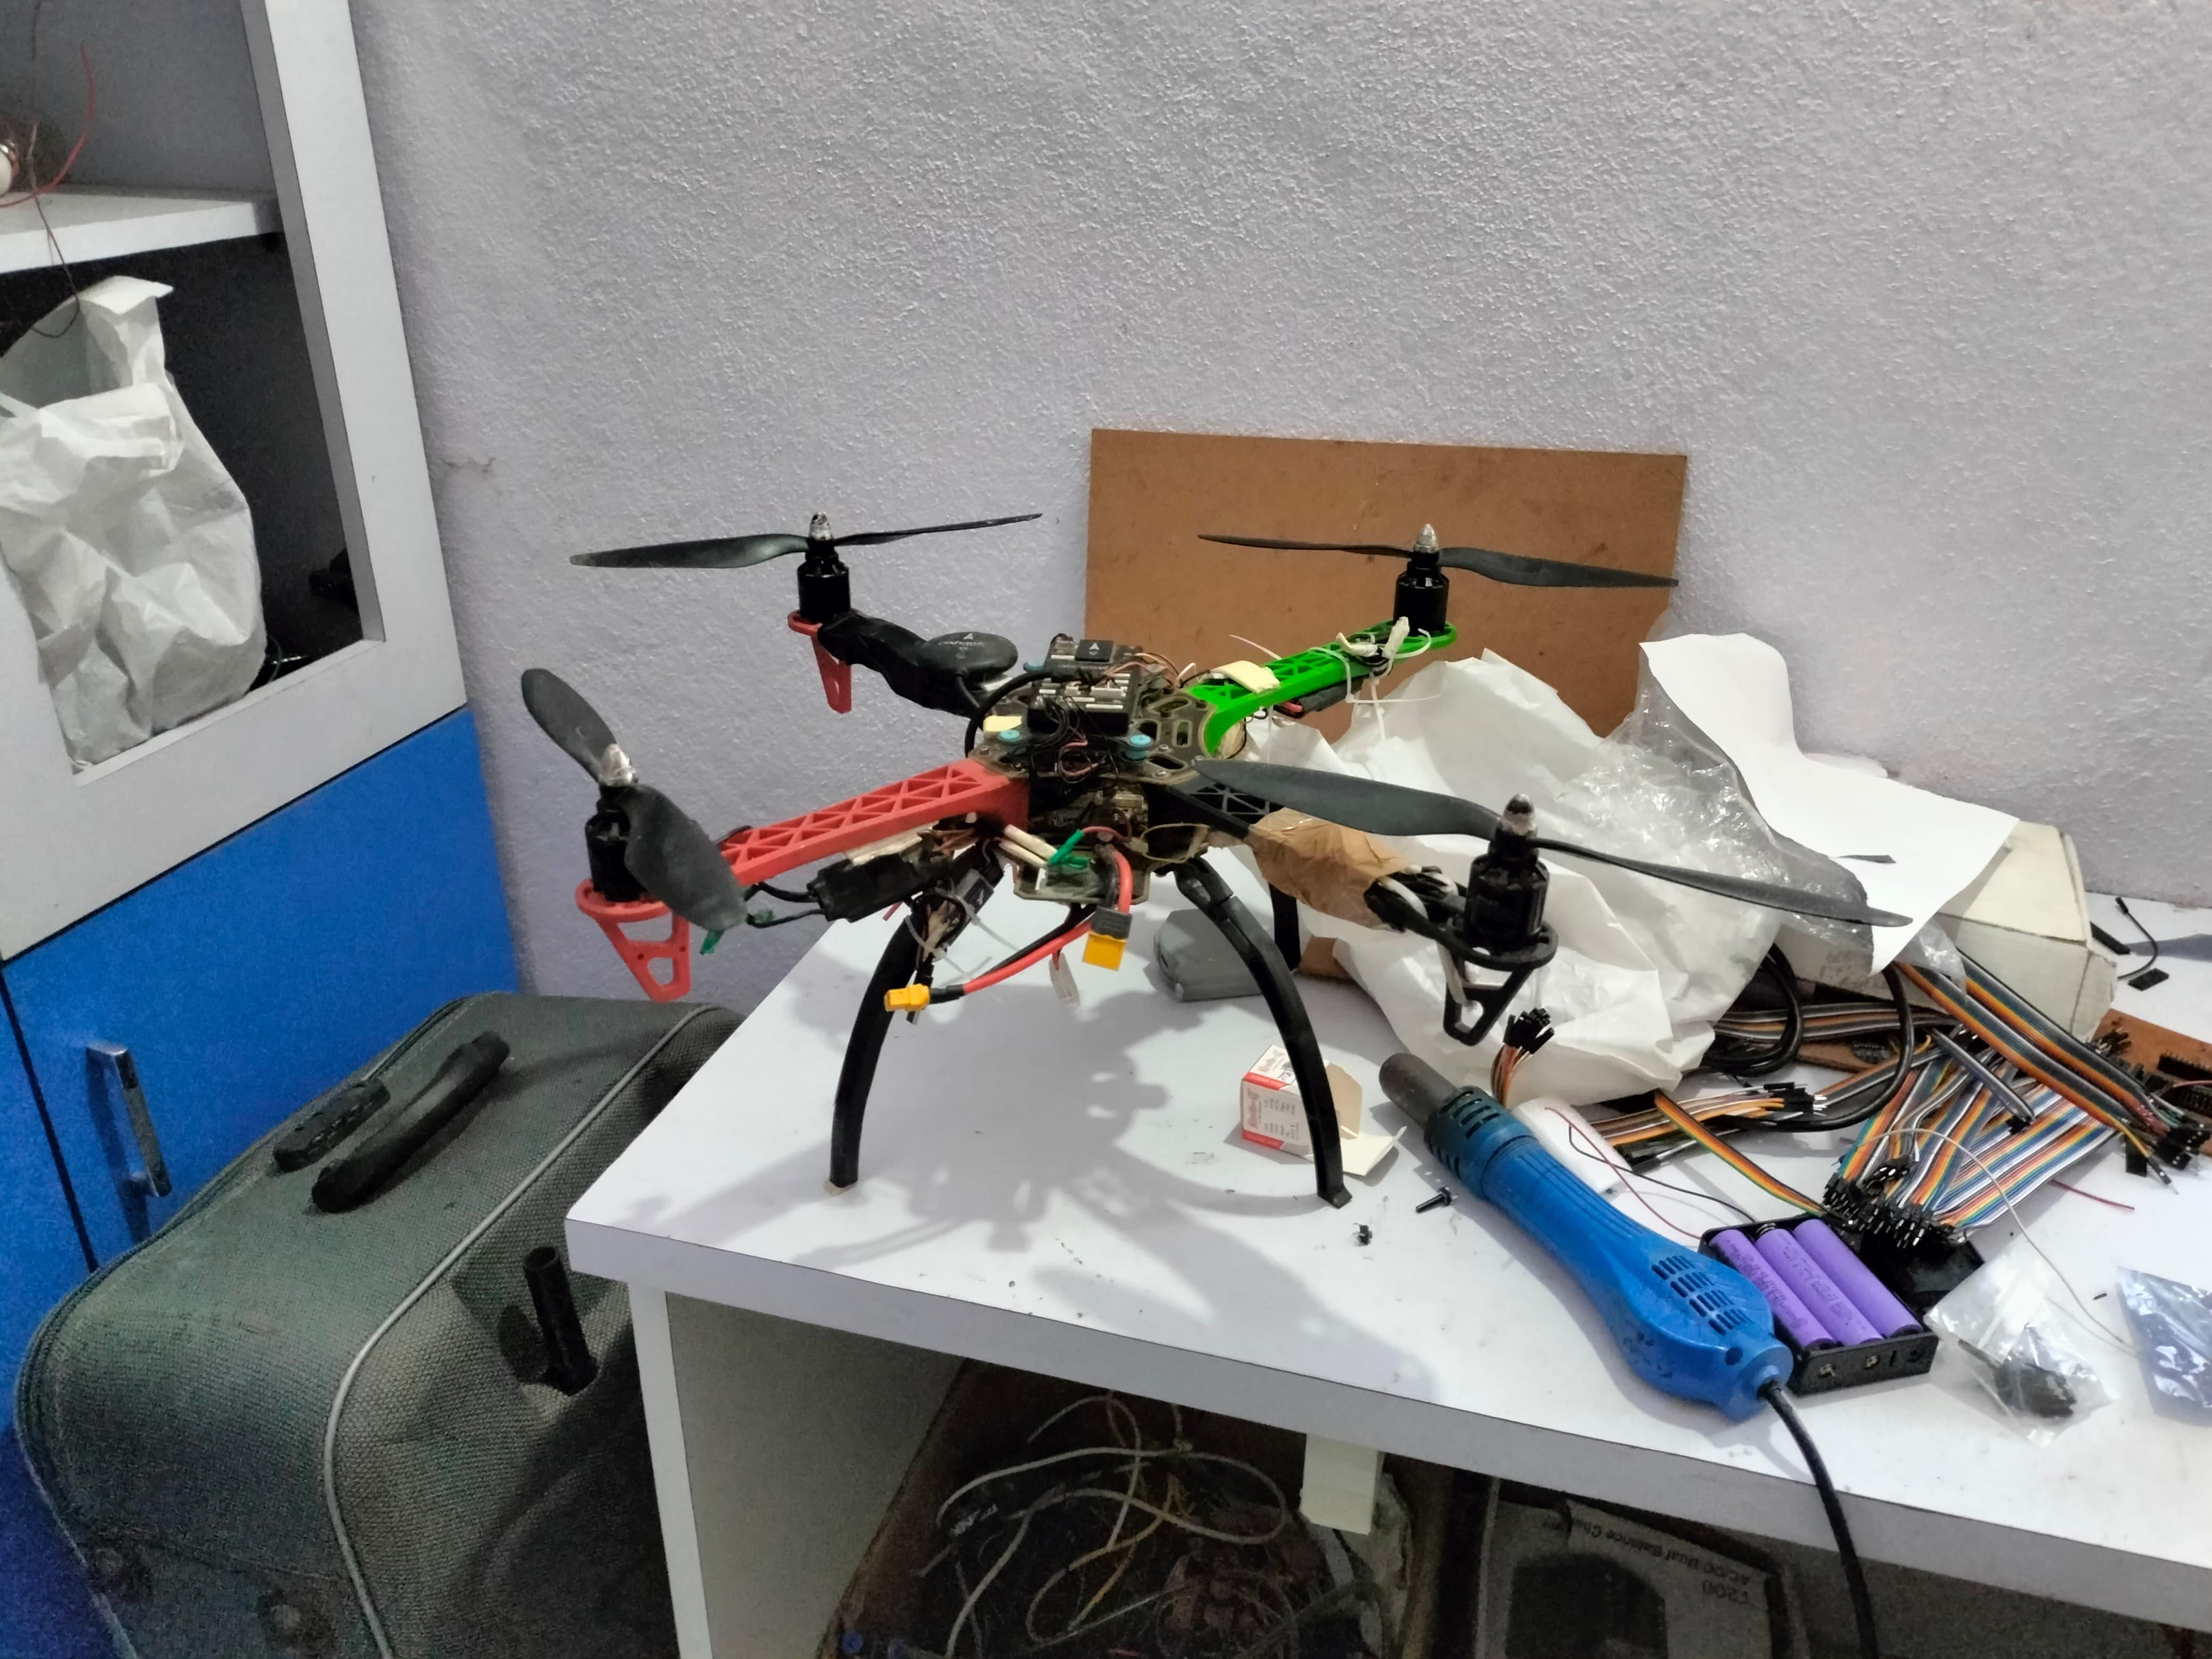drone: (503, 429, 1797, 1187)
